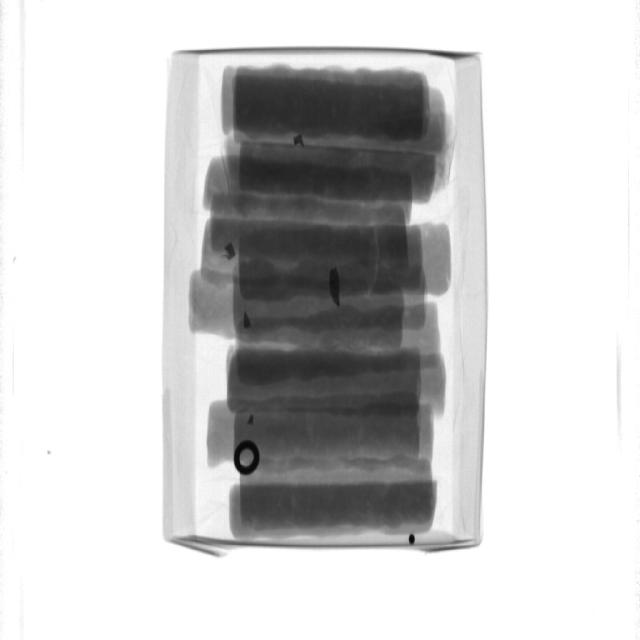ym: (235, 440, 261, 478), (328, 269, 342, 308), (293, 132, 305, 146), (225, 244, 235, 260), (244, 314, 252, 332), (408, 535, 416, 547), (249, 416, 255, 426)
